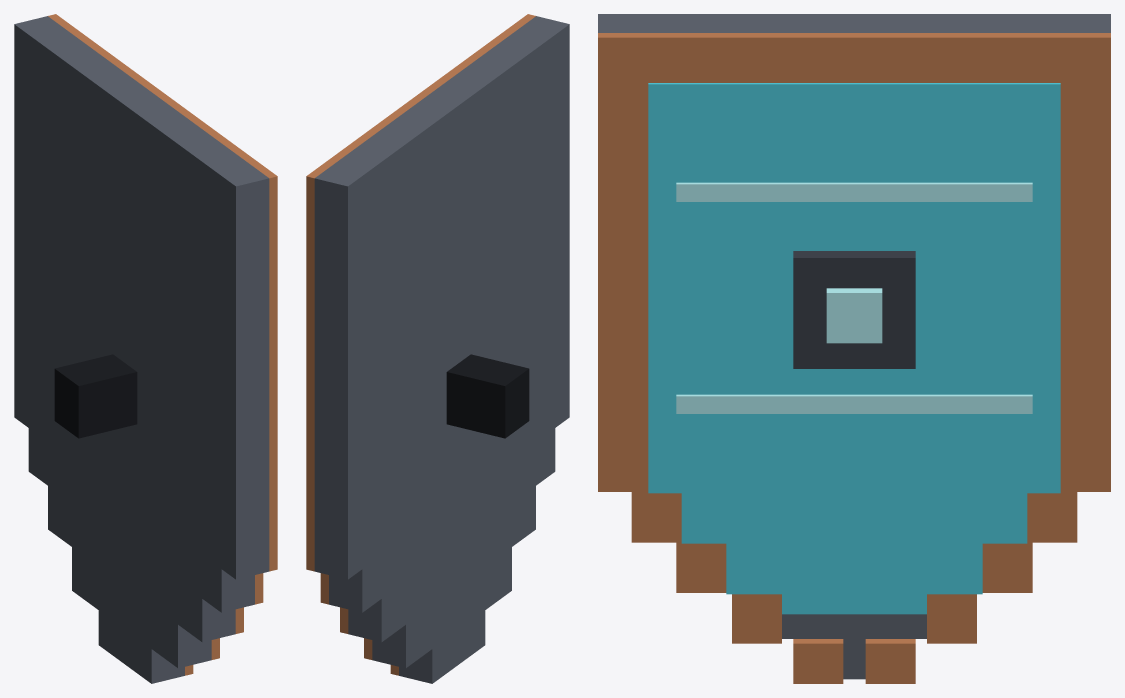
The model's file is eshield.glb.
3 renders of one model, left to right at view 1: azimuth 30°, elevation 25°; view 2: azimuth 150°, elevation 25°; view 3: azimuth 270°, elevation 25°, orthographic. The views are drawn at different scales.
Visible parts, largest first — view 1: shield; view 2: shield; view 3: field, shield.
Boxes of the visible parts, box(x1,y1,x2,y2) form: shield: box(14, 14, 277, 683); shield: box(306, 14, 569, 683); field: box(648, 83, 1060, 614); shield: box(598, 14, 1110, 683).
Bounding box in the file's own units: 0.1844 × 0.8 × 0.575.
